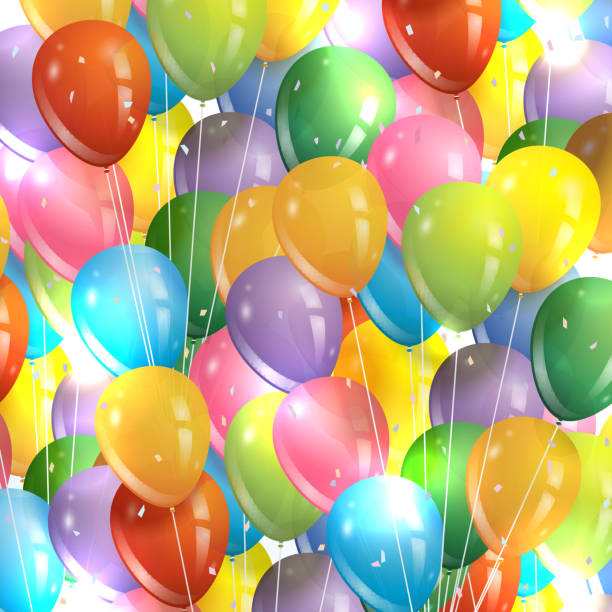Balloon: (32, 21, 152, 172), (401, 182, 515, 331), (95, 365, 218, 502), (272, 157, 388, 295), (328, 473, 441, 611), (466, 420, 581, 555), (226, 258, 346, 382), (71, 246, 189, 372), (272, 48, 396, 159), (272, 377, 389, 487), (530, 278, 612, 417), (149, 1, 264, 100), (1, 487, 62, 612)
